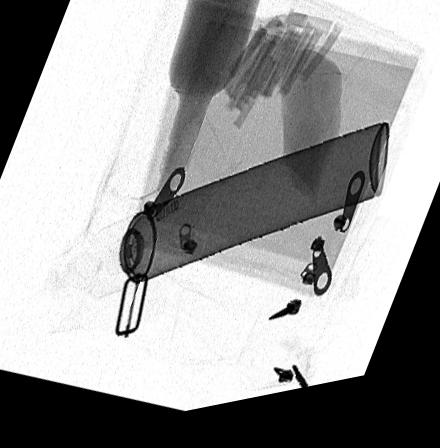Sprayer: (82, 137, 389, 302)
